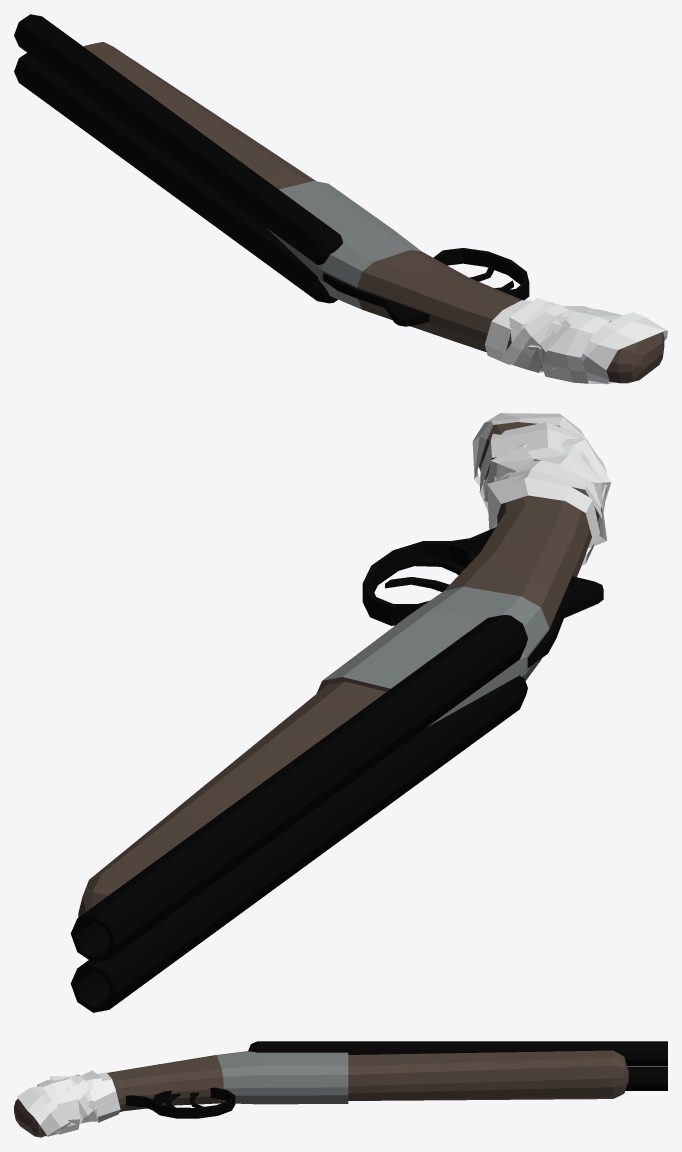
Rendered from Shotgun.fbx.
3 renders of one model, top to bottom at view 1: azimuth 30°, elevation 25°; view 2: azimuth 150°, elevation 25°; view 3: azimuth 270°, elevation 25°, orthographic. The views are drawn at different scales.
Parts seen in each view (by area): view 1: Shotgun_Serrated; view 2: Shotgun_Serrated; view 3: Shotgun_Serrated.
Boxes of the visible parts, box(x1,y1,x2,y2) form: Shotgun_Serrated: box(14, 14, 667, 384); Shotgun_Serrated: box(70, 413, 611, 1012); Shotgun_Serrated: box(14, 1041, 667, 1137).
Size of the model in its own units: 0.2659 by 0.0931 by 1.11.
Materials: 1 (1 with a texture image).
